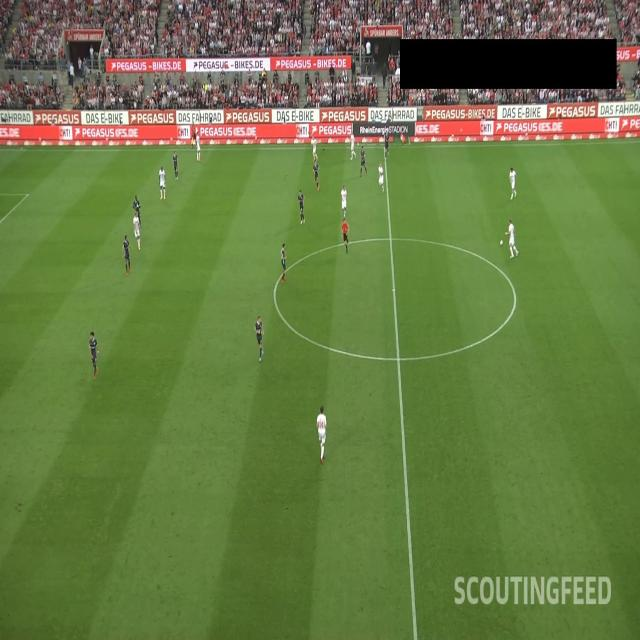ball: (499, 239, 504, 247)
